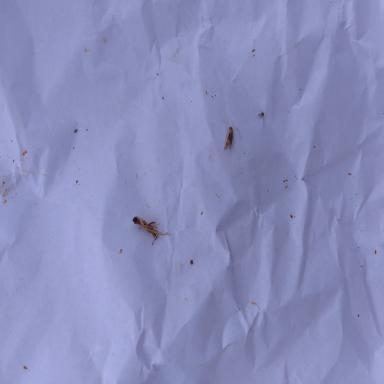pbw: (132, 216, 171, 245), (224, 126, 234, 154)
